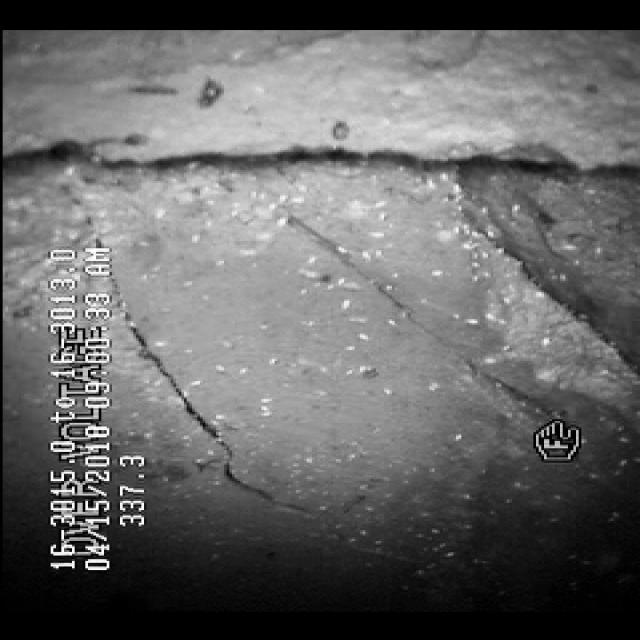Crack: (124, 321, 284, 497)
